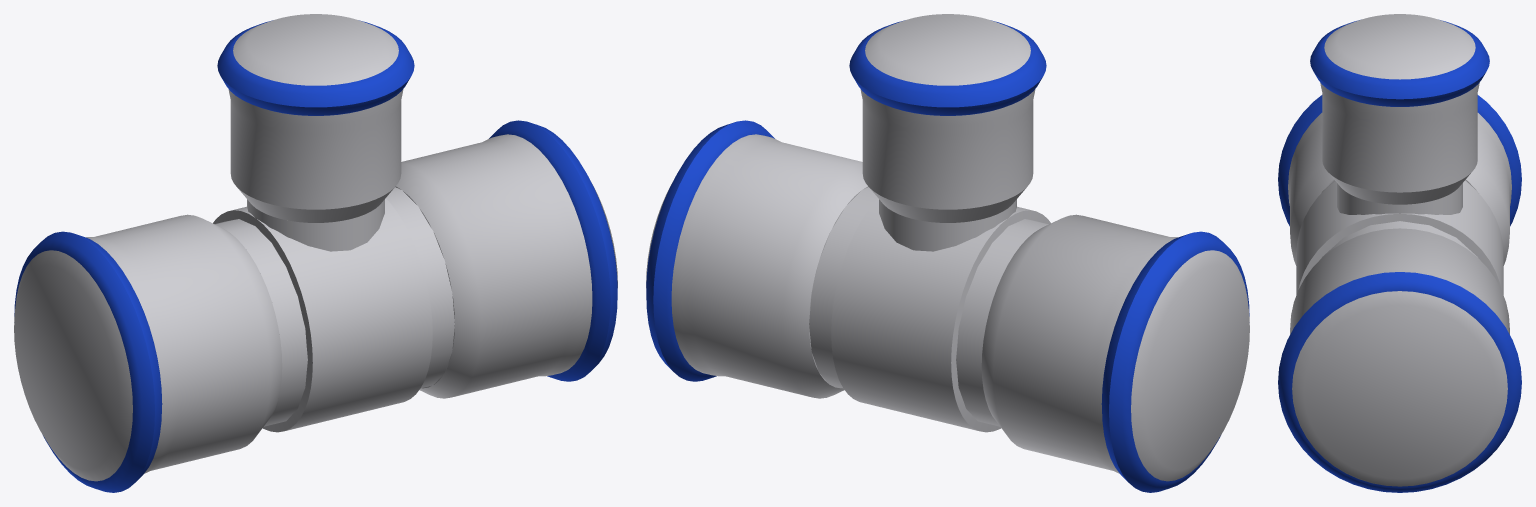
The model's file is fitting_tee_35x22.glb.
3 views of the same model, side by side, from view 1: azimuth 30°, elevation 25°; view 2: azimuth 150°, elevation 25°; view 3: azimuth 270°, elevation 25° (orthographic). The views are drawn at different scales.
Visible parts, largest first — view 1: раструб.001, раструб, раструб.002, узел, корпус, кольцо пресс.001, кольцо пресс, кольцо пресс.002, корпус.001; view 2: раструб.001, раструб, раструб.002, узел, корпус, кольцо пресс.001, кольцо пресс, кольцо пресс.002, корпус.001; view 3: раструб, раструб.002, кольцо пресс, узел, раструб.001, кольцо пресс.002, кольцо пресс.001, корпус.001, корпус.
Boxes of the visible parts, x1=… form: раструб.001: x1=14, y1=214, x2=282, y2=481; раструб: x1=395, y1=134, x2=617, y2=398; раструб.002: x1=228, y1=14, x2=403, y2=222; узел: x1=213, y1=198, x2=432, y2=432; корпус: x1=214, y1=187, x2=454, y2=426; кольцо пресс.001: x1=14, y1=231, x2=162, y2=492; кольцо пресс: x1=489, y1=120, x2=617, y2=381; кольцо пресс.002: x1=217, y1=20, x2=414, y2=115; корпус.001: x1=247, y1=199, x2=384, y2=251; раструб.001: x1=981, y1=214, x2=1249, y2=481; раструб: x1=646, y1=134, x2=868, y2=398; раструб.002: x1=860, y1=14, x2=1035, y2=222; узел: x1=831, y1=198, x2=1050, y2=432; корпус: x1=809, y1=187, x2=1049, y2=426; кольцо пресс.001: x1=1101, y1=231, x2=1249, y2=492; кольцо пресс: x1=646, y1=120, x2=774, y2=381; кольцо пресс.002: x1=849, y1=20, x2=1046, y2=115; корпус.001: x1=879, y1=199, x2=1016, y2=251; раструб: x1=1290, y1=228, x2=1509, y2=486; раструб.002: x1=1320, y1=14, x2=1479, y2=204; кольцо пресс: x1=1278, y1=272, x2=1521, y2=492; узел: x1=1296, y1=181, x2=1503, y2=294; раструб.001: x1=1288, y1=113, x2=1511, y2=265; кольцо пресс.002: x1=1310, y1=20, x2=1489, y2=106; кольцо пресс.001: x1=1278, y1=95, x2=1521, y2=226; корпус.001: x1=1337, y1=183, x2=1462, y2=214; корпус: x1=1321, y1=180, x2=1478, y2=257.
Bounding box in the file's own units: 0.104 × 0.0766 × 0.0483.
